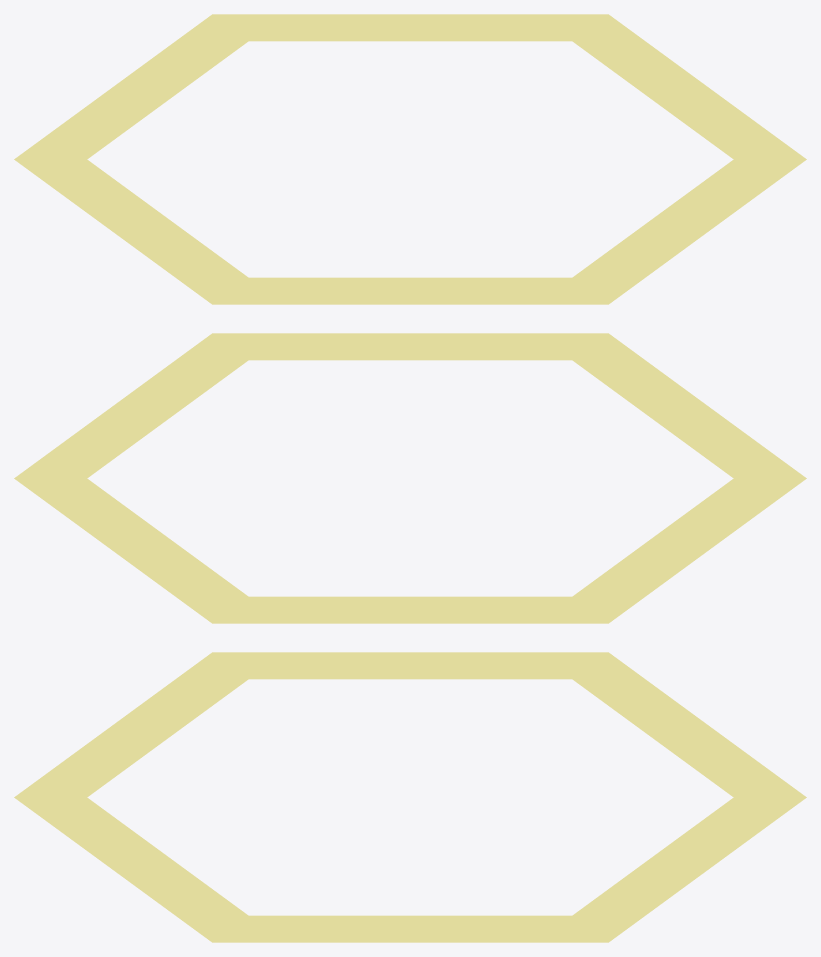
File: ring_particle.glb
3 views of the same model, one above another, from view 1: azimuth 30°, elevation 25°; view 2: azimuth 150°, elevation 25°; view 3: azimuth 270°, elevation 25° (orthographic).
Parts seen in each view (by area): view 1: ring_particle; view 2: ring_particle; view 3: ring_particle.
Boxes of the visible parts, x1,y1,x2,y2 form: ring_particle: (14,14,806,304); ring_particle: (14,333,806,623); ring_particle: (14,652,806,942).
Size of the model in its own units: 5.52 by 0 by 6.37.
Materials: 1 (1 with a texture image).
